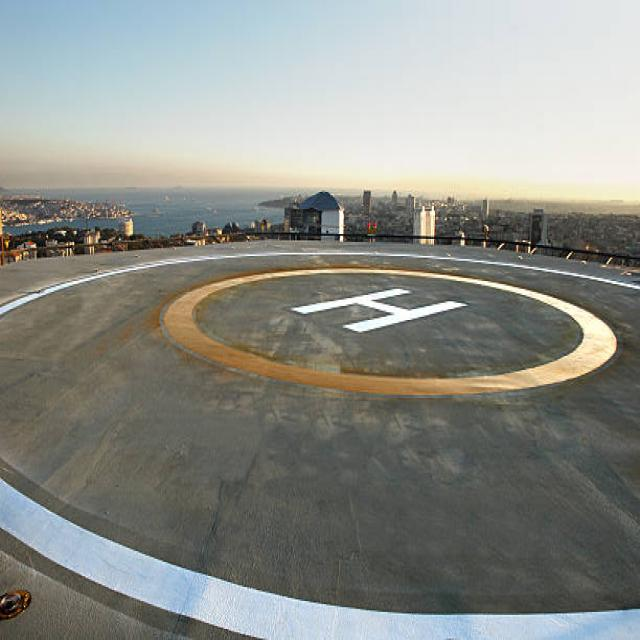helipad: (158, 260, 620, 396)
